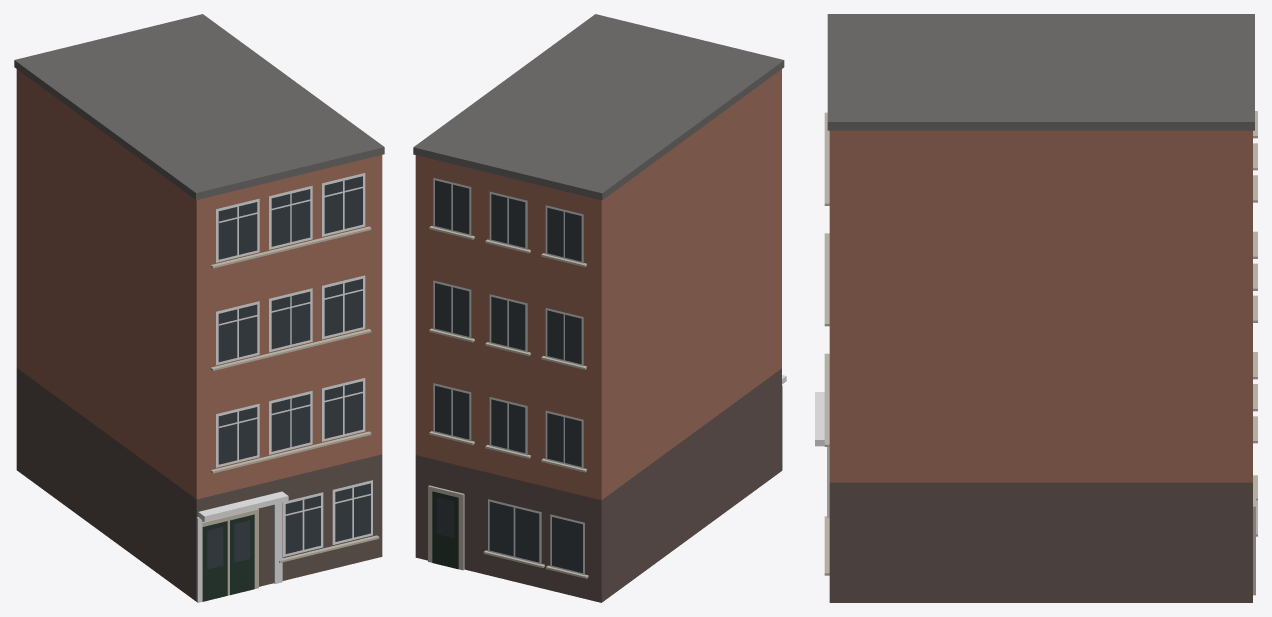
Rendered from we-or-three__mercator__4__flat__long__solid.glb.
The picture shows the model from 3 angles, left to right: view 1: azimuth 30°, elevation 25°; view 2: azimuth 150°, elevation 25°; view 3: azimuth 270°, elevation 25°; orthographic projection. The views are drawn at different scales.
Parts seen in each view (by area): view 1: we-or-three__mercator__4__flat__long__solid; view 2: we-or-three__mercator__4__flat__long__solid; view 3: we-or-three__mercator__4__flat__long__solid.
Part boxes in pixels (x1,y1,x2,y2): we-or-three__mercator__4__flat__long__solid: (14,14,384,602); we-or-three__mercator__4__flat__long__solid: (413,14,786,602); we-or-three__mercator__4__flat__long__solid: (815,14,1257,602).
Size of the model in its own units: 6.07 by 12.6 by 10.5.
